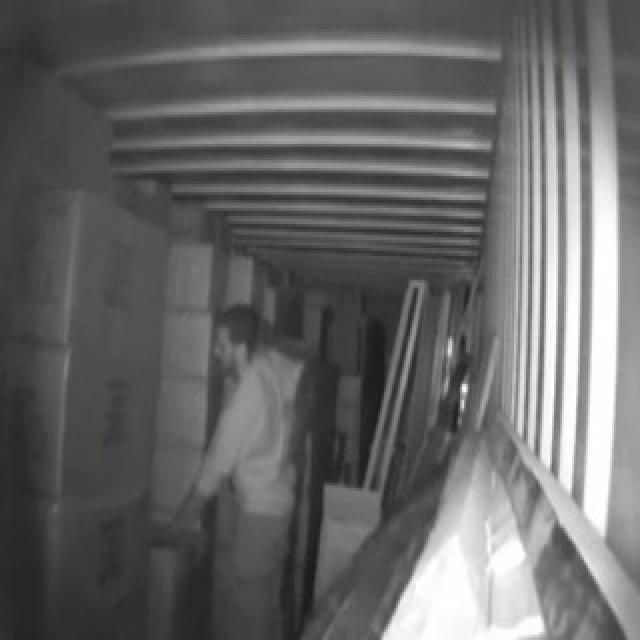thief: (199, 312, 302, 608)
